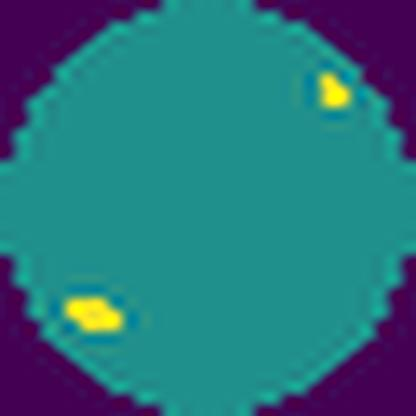Loc: (62, 296, 125, 333), (318, 71, 350, 108)
